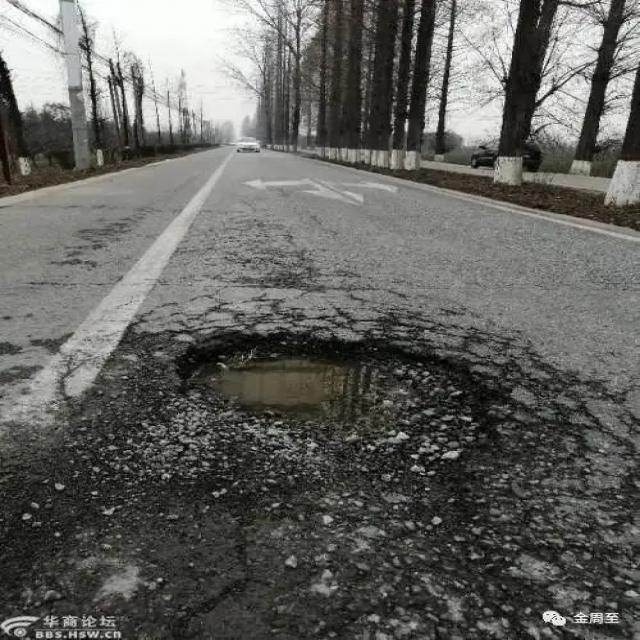Pothole: (160, 333, 502, 508)
